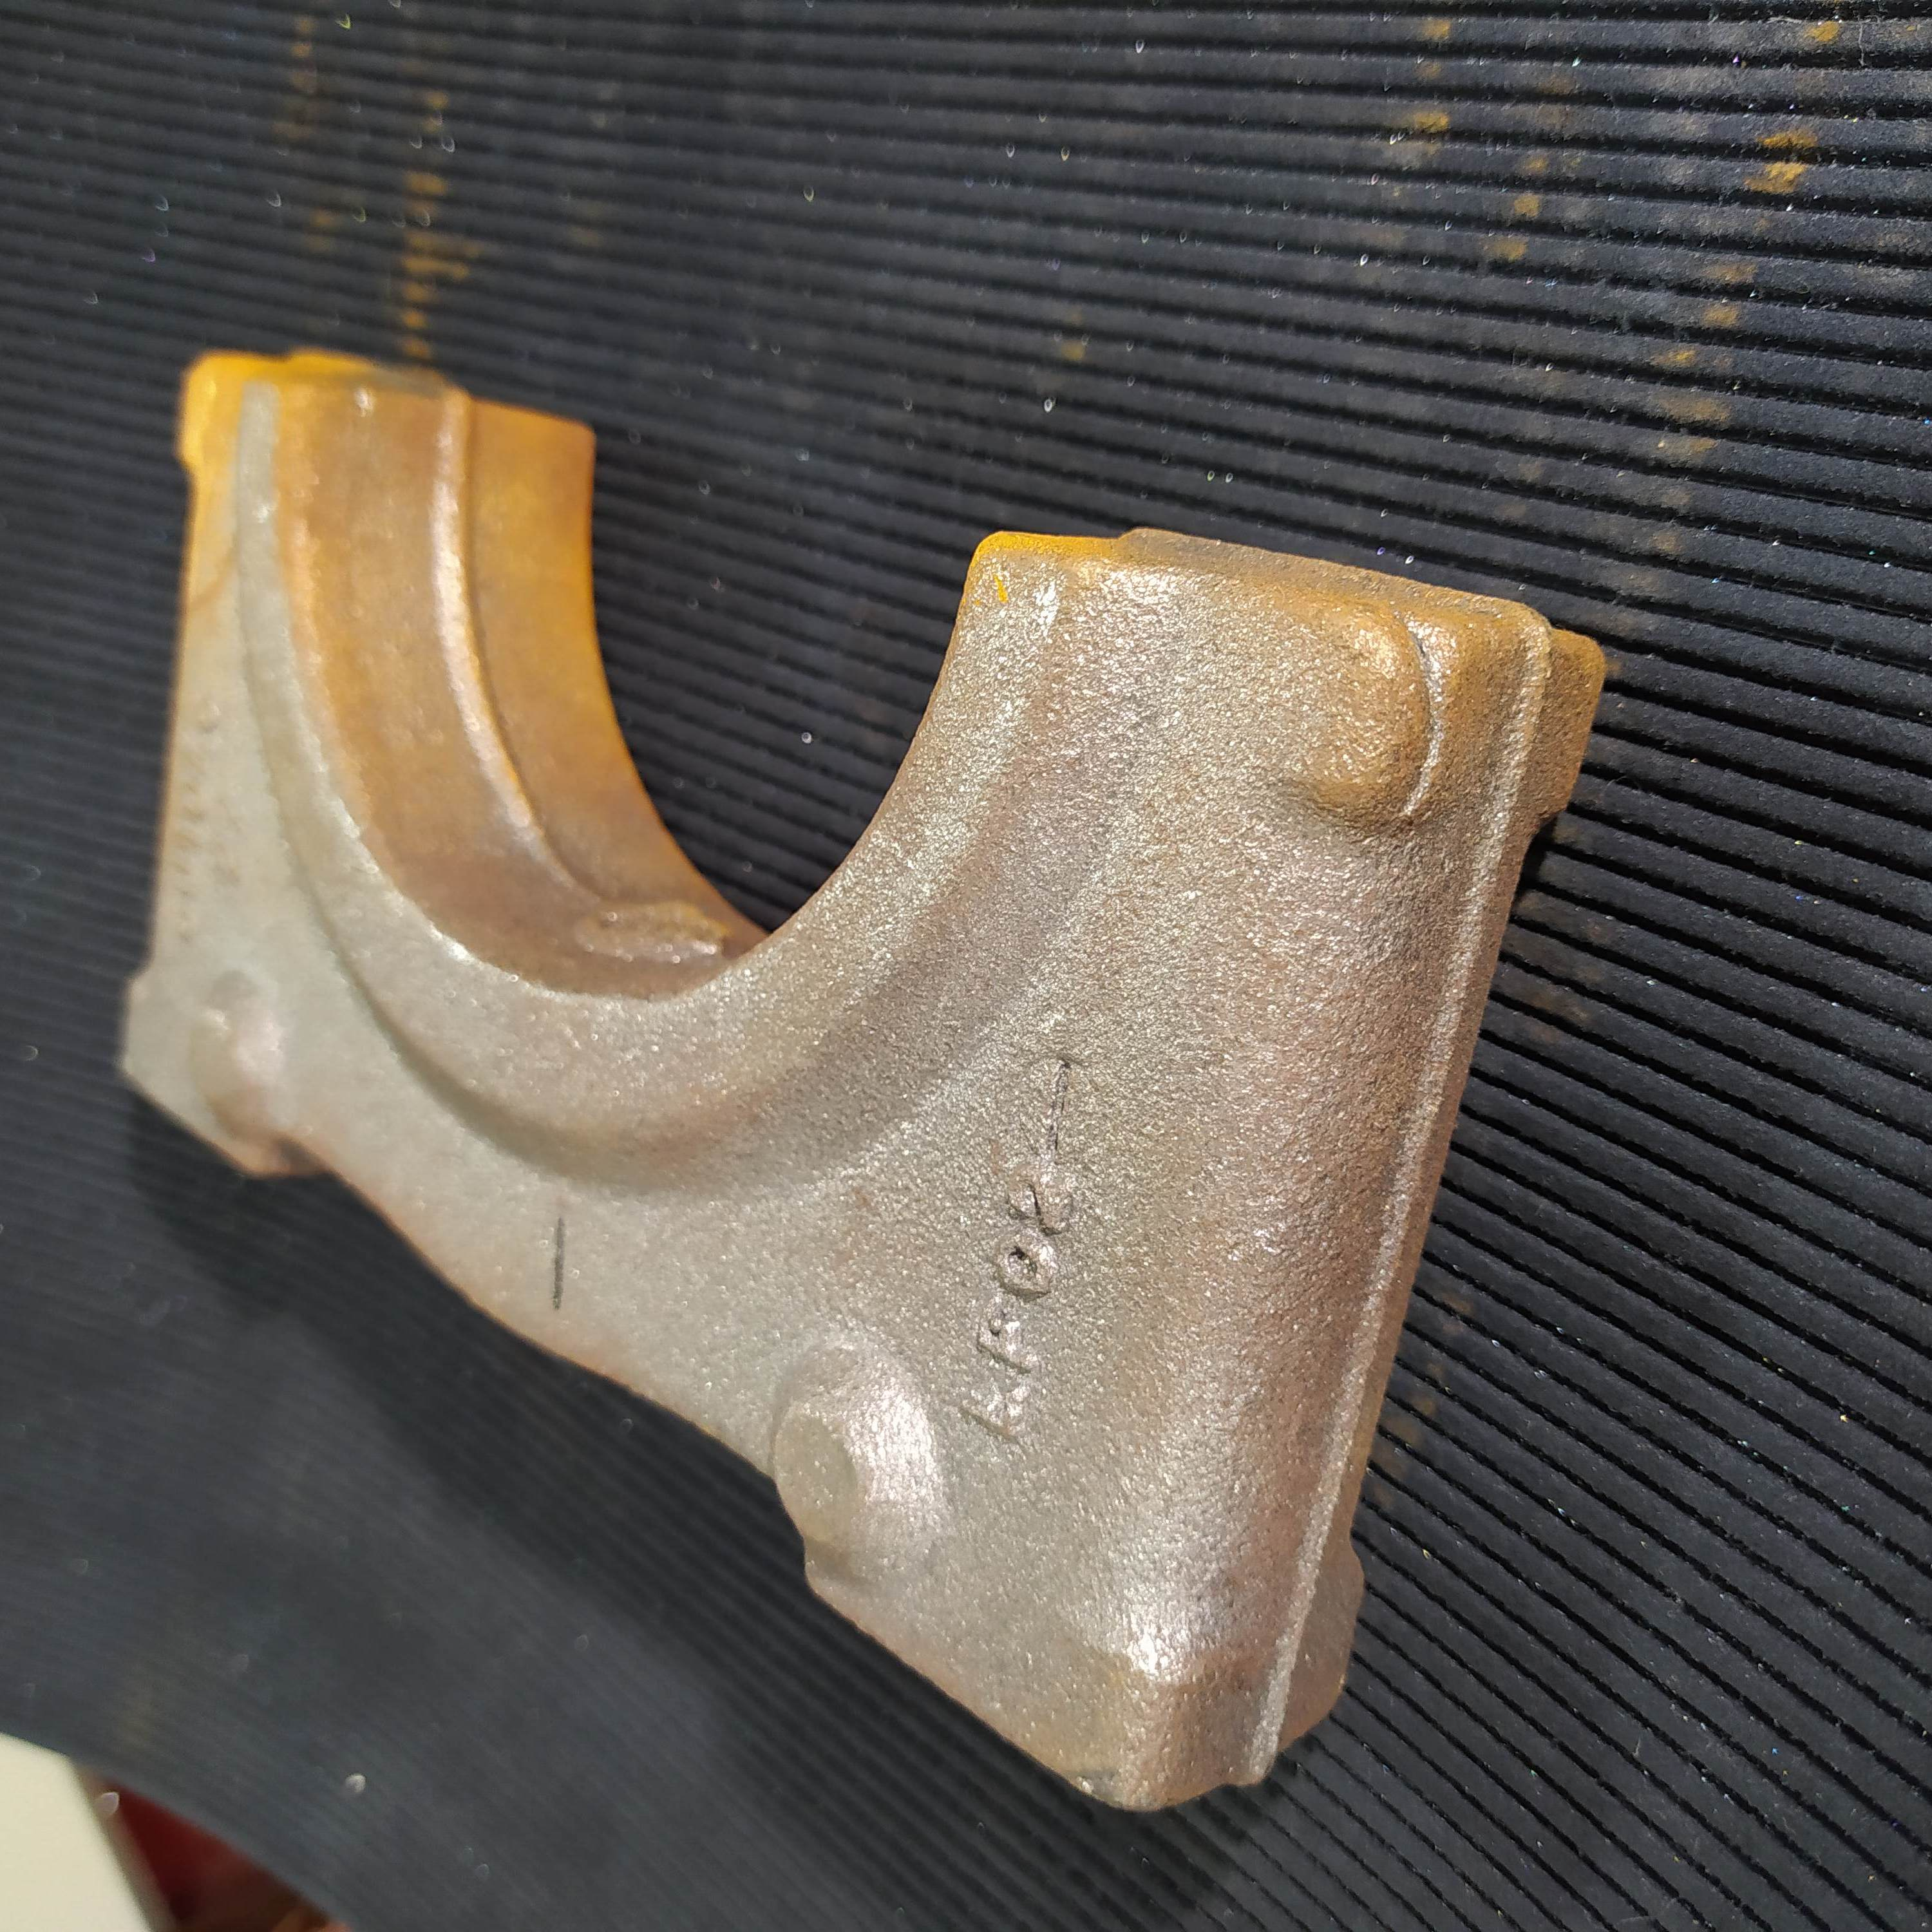rechupe: (1398, 612, 1447, 821), (1069, 1766, 1118, 1796)
